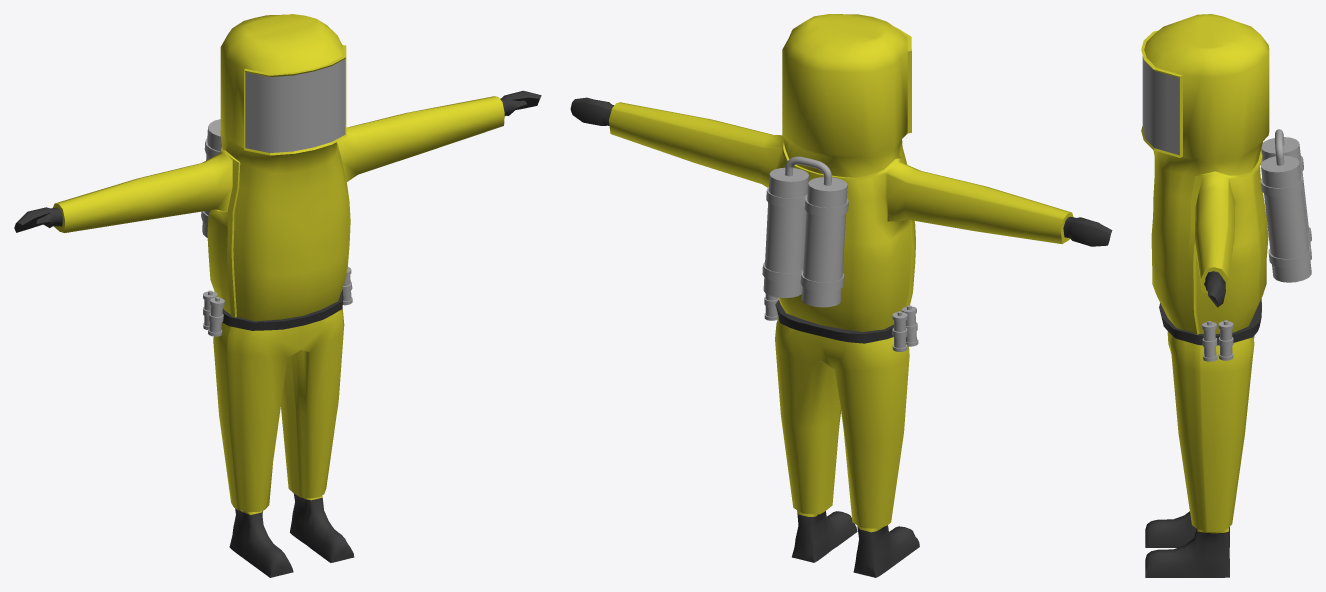
File: Radiation_Suit.fbx
The picture shows the model from 3 angles, left to right: view 1: azimuth 30°, elevation 25°; view 2: azimuth 150°, elevation 25°; view 3: azimuth 270°, elevation 25°; orthographic projection. The views are drawn at different scales.
Visible parts, largest first — view 1: Radiation_Suit; view 2: Radiation_Suit; view 3: Radiation_Suit.
Part boxes in pixels (<box>): Radiation_Suit: <box>14,14,541,577</box>; Radiation_Suit: <box>570,14,1112,577</box>; Radiation_Suit: <box>1141,14,1311,577</box>.
Size of the model in its own units: 1402 by 1319 by 389.
